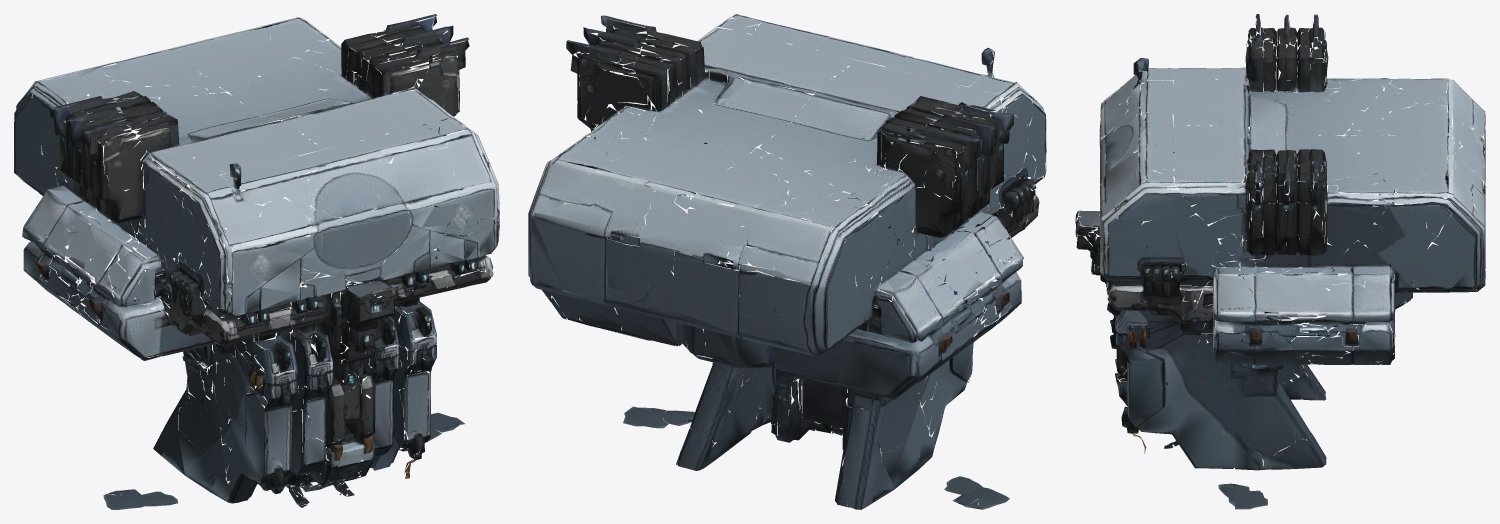
The model's file is HL_Asset_Generator.glb.
The picture shows the model from 3 angles, left to right: view 1: azimuth 30°, elevation 25°; view 2: azimuth 150°, elevation 25°; view 3: azimuth 270°, elevation 25°; orthographic projection. The views are drawn at different scales.
Visible parts, largest first — view 1: tripo_node_0365f5c3-46c7-43b6-874f-7dbb0e434a3f; view 2: tripo_node_0365f5c3-46c7-43b6-874f-7dbb0e434a3f; view 3: tripo_node_0365f5c3-46c7-43b6-874f-7dbb0e434a3f.
Part boxes in pixels (<box>): tripo_node_0365f5c3-46c7-43b6-874f-7dbb0e434a3f: <box>14,14,499,509</box>; tripo_node_0365f5c3-46c7-43b6-874f-7dbb0e434a3f: <box>528,14,1046,509</box>; tripo_node_0365f5c3-46c7-43b6-874f-7dbb0e434a3f: <box>1075,14,1485,509</box>.
Bounding box in the file's own units: 0.9593 × 0.8973 × 0.9822.
Materials: 1 (1 with a texture image).
